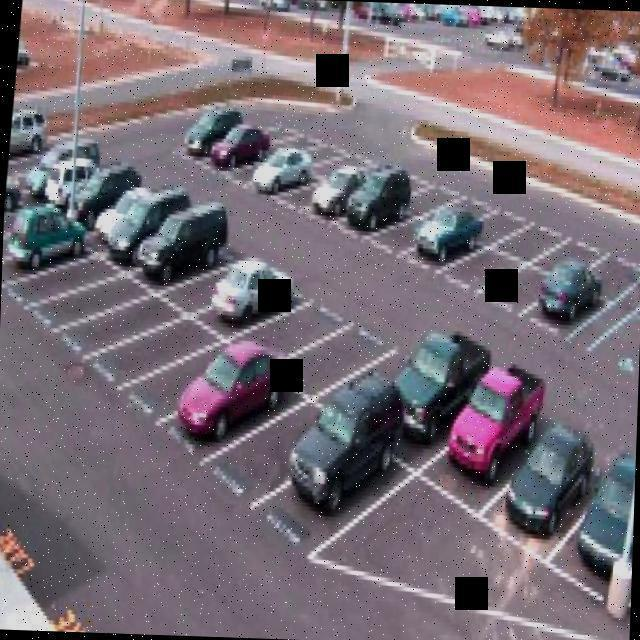space-empty: (217, 379, 334, 512), (93, 284, 218, 406), (132, 316, 236, 451), (49, 264, 172, 370), (321, 316, 426, 428), (31, 254, 141, 351), (290, 295, 389, 395), (7, 236, 113, 321), (243, 275, 333, 366), (171, 228, 254, 311), (497, 195, 577, 270), (541, 215, 605, 284), (436, 242, 512, 296), (466, 196, 532, 257), (434, 181, 506, 235), (405, 173, 477, 227), (372, 204, 431, 265), (581, 242, 640, 303), (228, 133, 287, 186), (491, 263, 548, 315), (598, 314, 640, 383), (317, 141, 375, 190), (275, 112, 329, 164), (381, 162, 441, 207), (272, 165, 320, 217), (252, 107, 304, 155), (297, 131, 346, 175)
space-occupied: (267, 400, 397, 557), (496, 399, 599, 547), (171, 339, 288, 467), (433, 368, 540, 504), (379, 319, 483, 454), (553, 448, 636, 600), (205, 246, 297, 337), (136, 198, 232, 285), (1, 212, 88, 299), (103, 177, 186, 263), (531, 260, 598, 338), (81, 165, 152, 234), (406, 215, 470, 280), (62, 153, 122, 221), (39, 143, 101, 208), (207, 115, 267, 180), (340, 185, 399, 242), (251, 147, 310, 204), (300, 180, 355, 240), (24, 138, 78, 194), (181, 109, 231, 161)
